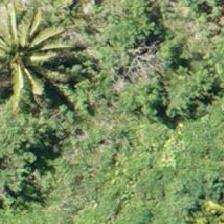coconut_tree: (0, 0, 65, 80)
